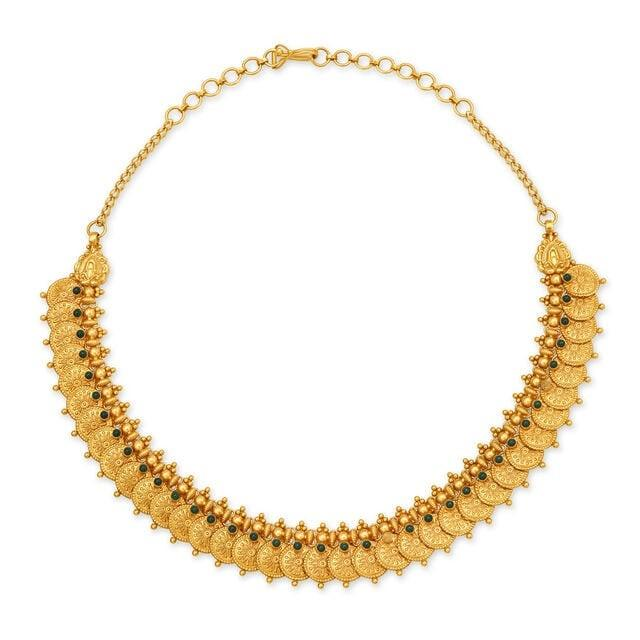missing gem: (541, 380, 552, 390), (383, 532, 393, 543)
